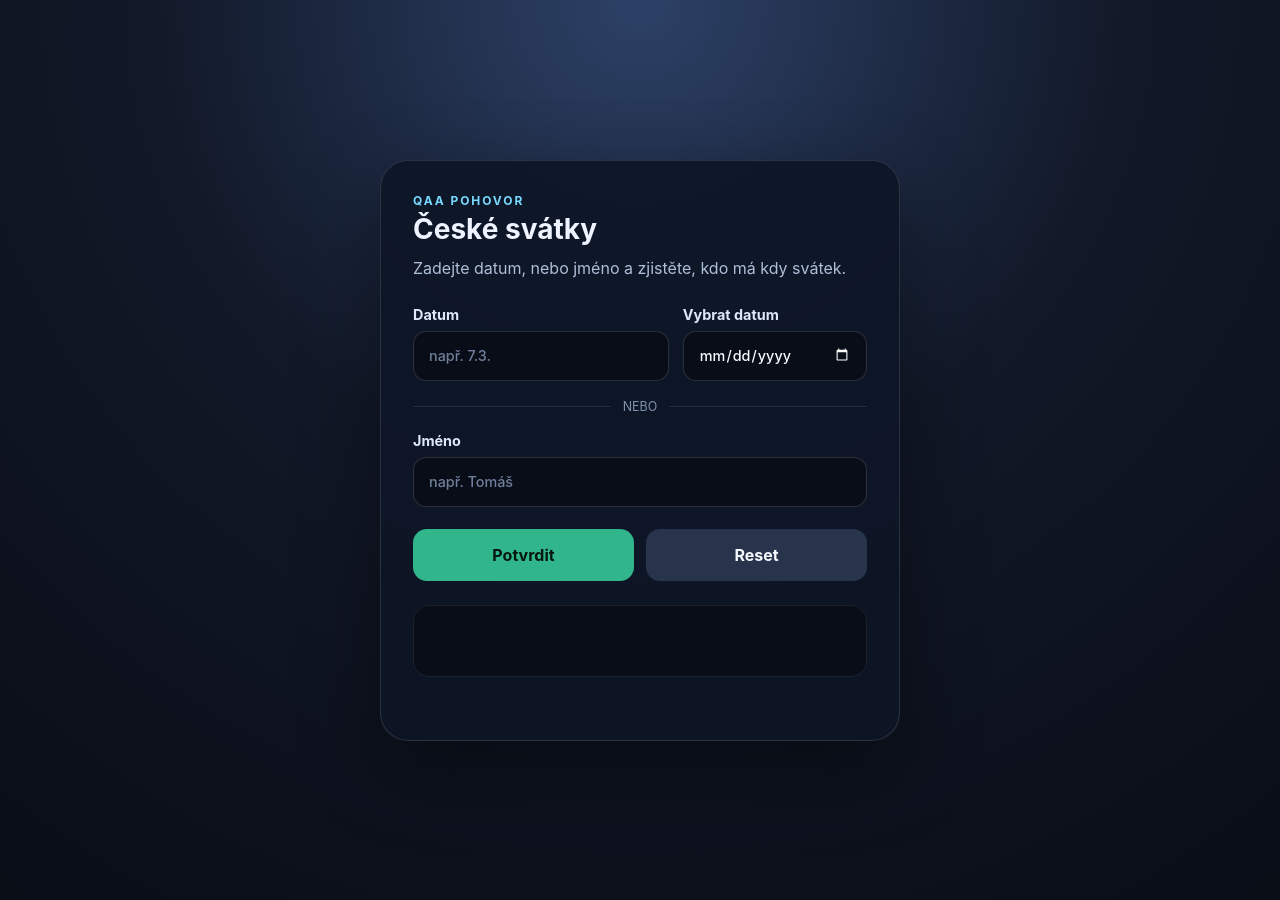
it: NamedayForm › Rendering the result › renders a single name for the date
Type "7.3." into the field with test id "date-input".
click(541, 356); type("7.3.")  # box [413, 330, 669, 380]
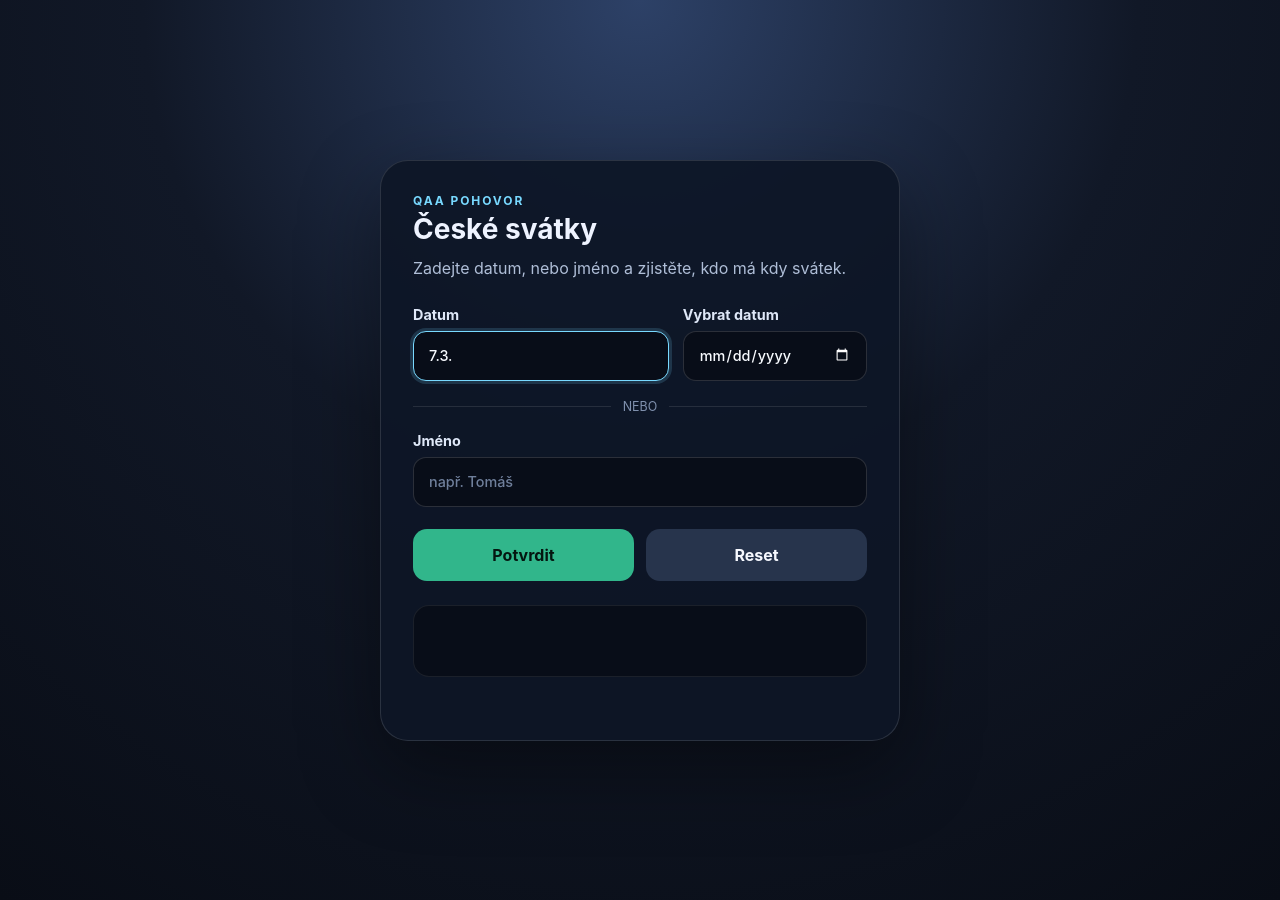
Click the button with test id "confirm".
click(524, 554)  # box [413, 528, 634, 580]
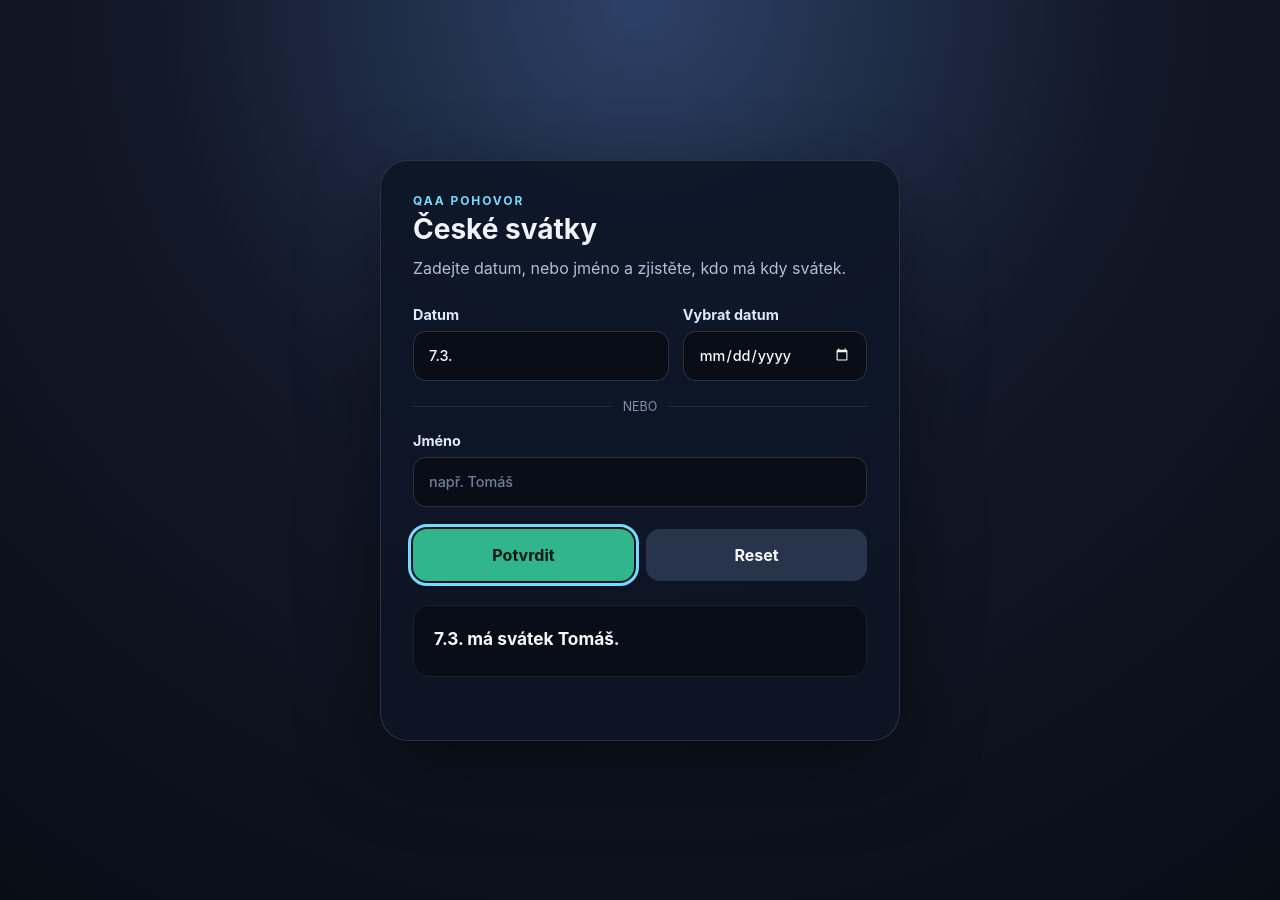
Check: the text with test id "result" shows "7.3. má svátek Tomáš", box [434, 628, 620, 648]
